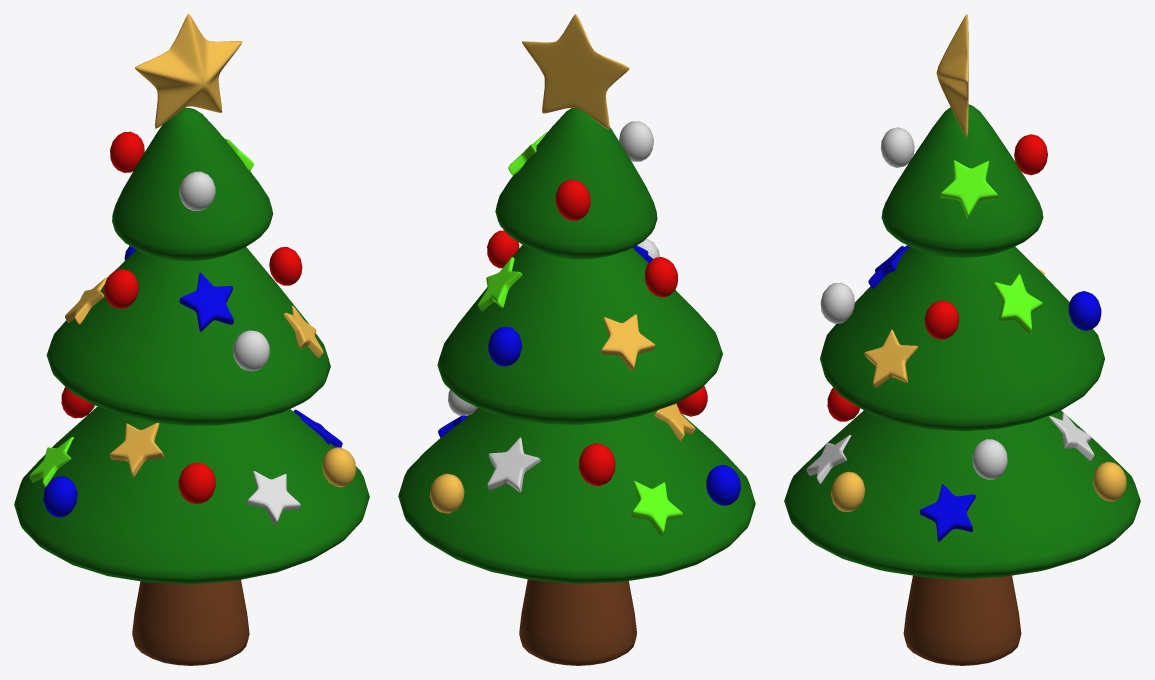
Rendered from TreeLarge.fbx.
The picture shows the model from 3 angles, left to right: view 1: azimuth 30°, elevation 25°; view 2: azimuth 150°, elevation 25°; view 3: azimuth 270°, elevation 25°; orthographic projection.
Visible parts, largest first — view 1: Circle.001, Star.002, Star.009, Star.007, Star.003, Roundcube.012, Roundcube.017, Roundcube.021, Roundcube.013, Roundcube.022, Roundcube.019, Roundcube.011 (+5 smaller); view 2: Circle.001, Star.002, Star.008, Star.005, Star.006, Roundcube.016, Roundcube.022, Roundcube.013, Roundcube.015, Roundcube.021, Roundcube.020, Roundcube.019 (+4 smaller); view 3: Circle.001, Star.002, Star.012, Star.004, Star.010, Star.011, Roundcube.014, Roundcube.017, Roundcube.022, Roundcube.011, Roundcube.021, Roundcube.018 (+6 smaller).
Boxes of the visible parts, left/top/right/bottom form: Circle.001: left=14, top=108, right=369, bottom=665; Star.002: left=135, top=14, right=241, bottom=128; Star.009: left=179, top=272, right=233, bottom=331; Star.007: left=109, top=423, right=164, bottom=476; Star.003: left=246, top=471, right=300, bottom=525; Roundcube.012: left=178, top=463, right=215, bottom=503; Roundcube.017: left=233, top=330, right=269, bottom=371; Roundcube.021: left=179, top=171, right=215, bottom=210; Roundcube.013: left=43, top=476, right=77, bottom=517; Roundcube.022: left=110, top=131, right=144, bottom=172; Roundcube.019: left=104, top=269, right=138, bottom=308; Roundcube.011: left=322, top=447, right=356, bottom=487; Circle.001: left=398, top=108, right=755, bottom=665; Star.002: left=522, top=14, right=629, bottom=129; Star.008: left=600, top=314, right=655, bottom=371; Star.005: left=487, top=437, right=540, bottom=492; Star.006: left=631, top=481, right=682, bottom=536; Roundcube.016: left=579, top=443, right=615, bottom=486; Roundcube.022: left=555, top=179, right=590, bottom=220; Roundcube.013: left=706, top=465, right=740, bottom=505; Roundcube.015: left=430, top=473, right=464, bottom=513; Roundcube.021: left=619, top=121, right=653, bottom=161; Roundcube.020: left=488, top=326, right=521, bottom=366; Roundcube.019: left=645, top=257, right=677, bottom=297; Circle.001: left=784, top=104, right=1140, bottom=665; Star.002: left=936, top=14, right=968, bottom=136; Star.012: left=940, top=160, right=997, bottom=218; Star.004: left=919, top=484, right=975, bottom=541; Star.010: left=864, top=329, right=917, bottom=387; Star.011: left=993, top=274, right=1042, bottom=333; Roundcube.014: left=972, top=439, right=1007, bottom=479; Roundcube.017: left=820, top=282, right=854, bottom=323; Roundcube.022: left=1014, top=134, right=1047, bottom=175; Roundcube.011: left=831, top=471, right=865, bottom=512; Roundcube.021: left=881, top=127, right=914, bottom=167; Roundcube.018: left=924, top=300, right=959, bottom=339.
Size of the model in its own units: 212 by 415 by 212.
